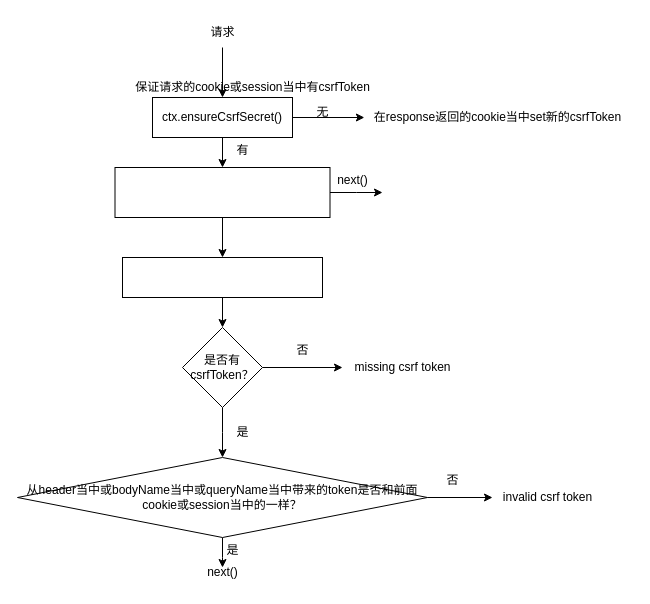
Some shapes in this 650 by 604 pixel diagram are drawn without their labels. The centre of each missing label's shape, as x and y in pixels:
assetCsrf(): the point at 222,277
默认支持的方法(post,patch,delete,put,connect,可以把get加进去): the point at 222,192
